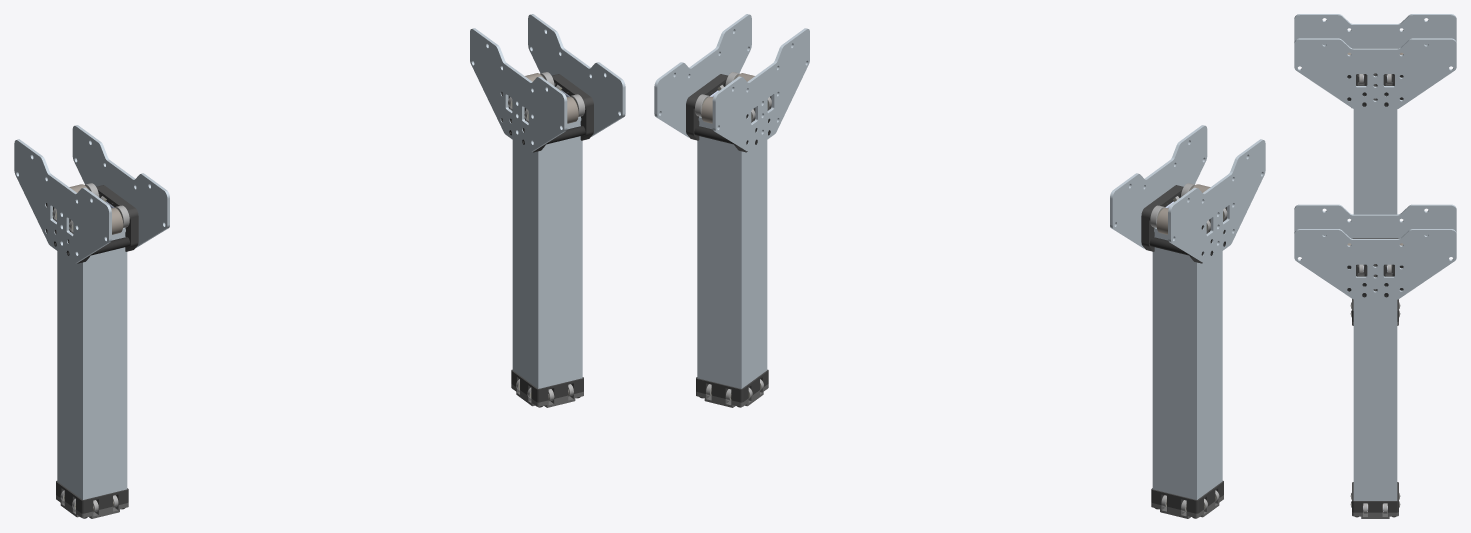
3 renders of one model, left to right at view 1: azimuth 30°, elevation 25°; view 2: azimuth 150°, elevation 25°; view 3: azimuth 270°, elevation 25°, orthographic. The views are drawn at different scales.
Parts seen in each view (by area): view 1: 1st Stage Left Tube (×2), Second Stage Plate (×4), WCP-0420-008 Rev1 (×2), WCP-0419-004 Rev2 (×2); view 2: 1st Stage Left Tube (×2), Second Stage Plate (×4), WCP-0420-008 Rev1 (×2), WCP-0419-004 Rev2 (×2); view 3: Second Stage Plate (×4), 1st Stage Left Tube (×2), WCP-0420-008 Rev1, WCP-0419-004 Rev2 (×2), WCP-0420-009 Rev1.
Part boxes in pixels (bbox=[...]): 1st Stage Left Tube (×2): bbox=[57, 116, 582, 499]; Second Stage Plate (×4): bbox=[14, 14, 625, 263]; WCP-0420-008 Rev1 (×2): bbox=[56, 369, 583, 513]; WCP-0419-004 Rev2 (×2): bbox=[96, 74, 593, 251]; 1st Stage Left Tube (×2): bbox=[697, 116, 1222, 499]; Second Stage Plate (×4): bbox=[654, 14, 1265, 262]; WCP-0420-008 Rev1 (×2): bbox=[696, 369, 1223, 513]; WCP-0419-004 Rev2 (×2): bbox=[686, 74, 1183, 251]; Second Stage Plate (×4): bbox=[1294, 14, 1456, 299]; 1st Stage Left Tube (×2): bbox=[1353, 82, 1397, 500]; WCP-0420-008 Rev1: bbox=[1352, 482, 1398, 512]; WCP-0419-004 Rev2 (×2): bbox=[1356, 73, 1403, 291]; WCP-0420-009 Rev1: bbox=[1352, 503, 1398, 518].
Size of the model in its own units: 0.5909 by 0.3719 by 0.1875.
